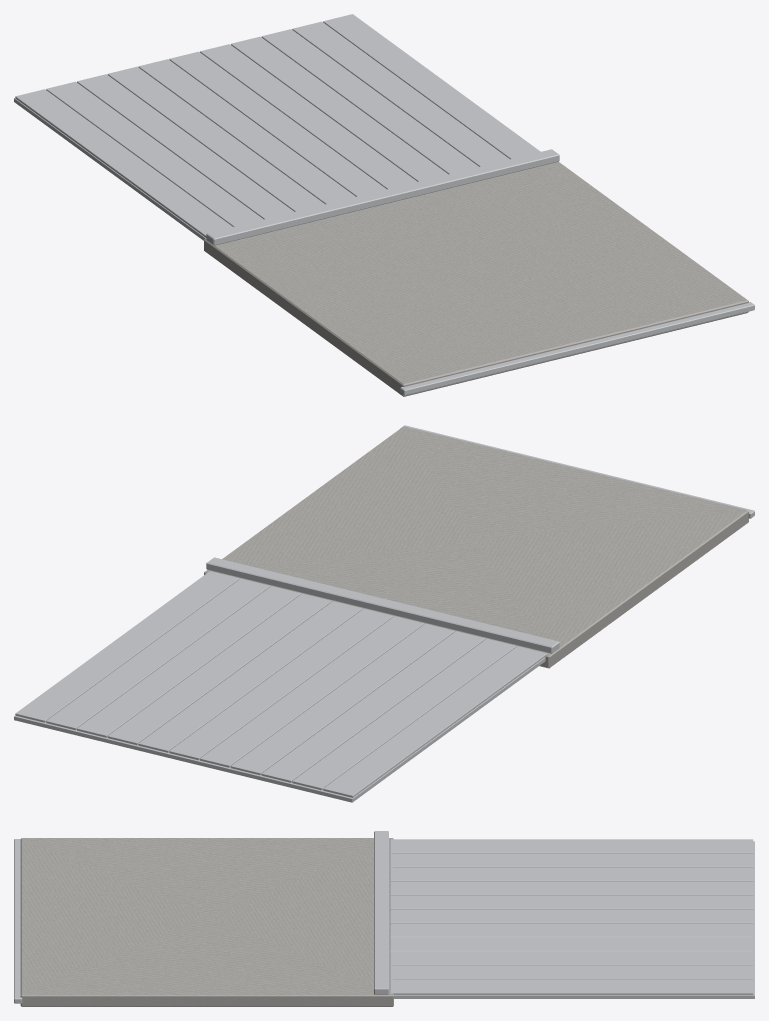
Rendered from japanese-school-and-city-street-roof-section-metal-2c3e9cf4__30063.glb.
3 renders of one model, top to bottom at view 1: azimuth 30°, elevation 25°; view 2: azimuth 150°, elevation 25°; view 3: azimuth 270°, elevation 25°, orthographic. The views are drawn at different scales.
Parts seen in each view (by area): view 1: roof-section-metal; view 2: roof-section-metal; view 3: roof-section-metal.
Part boxes in pixels (x1,y1,x2,y2): roof-section-metal: (14, 14, 754, 396); roof-section-metal: (14, 425, 754, 802); roof-section-metal: (14, 831, 754, 1006).
Bounding box in the file's own units: 4.56 × 0.2498 × 8.93.
2 materials, 1 textured.
